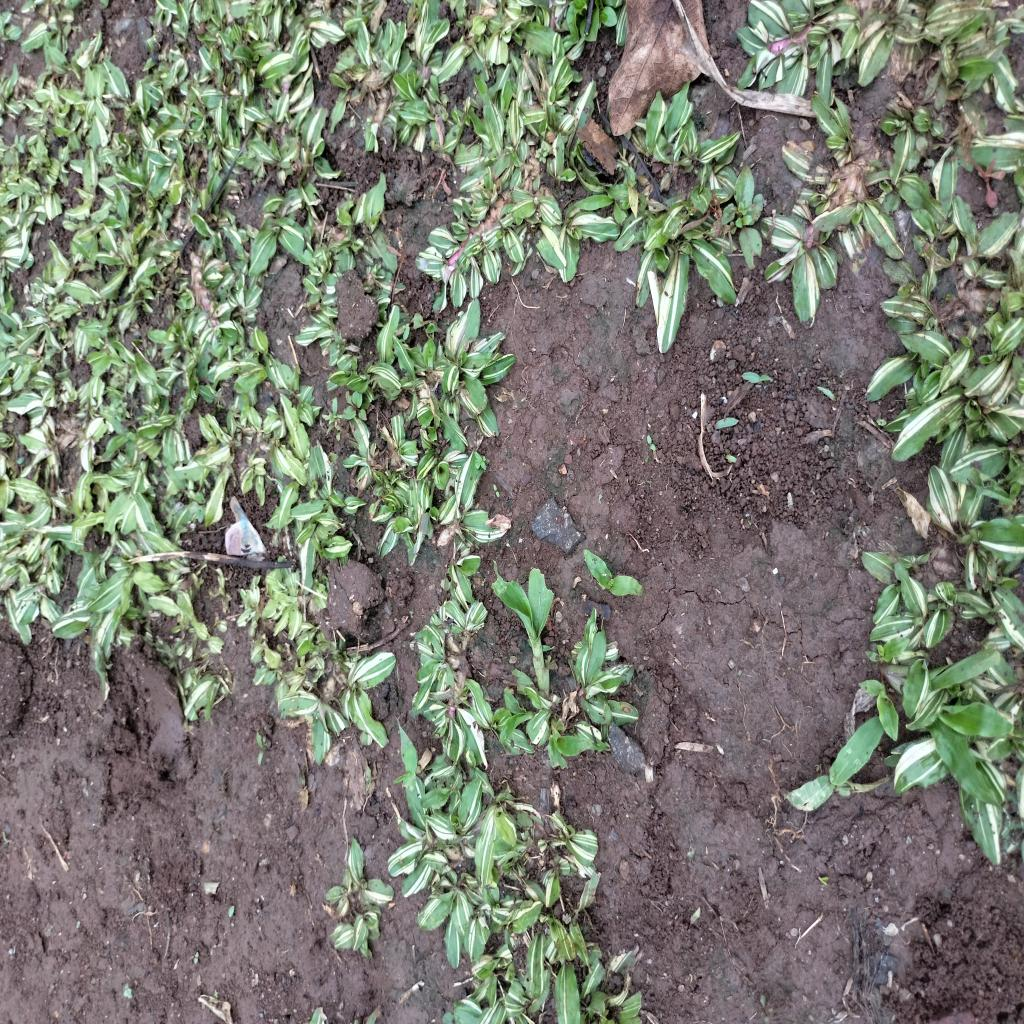akar wangi palsu: (322, 394, 344, 435)
bayi: (395, 324, 411, 345), (120, 982, 136, 1001), (646, 433, 657, 453), (876, 415, 888, 429), (192, 948, 201, 966), (492, 482, 500, 500), (212, 987, 221, 1001), (76, 918, 82, 930)
gingseng jawa: (946, 97, 1008, 212)
rambat atas: (778, 713, 882, 816), (396, 722, 423, 788)
rambat bawah: (880, 658, 1020, 816), (494, 569, 555, 698), (579, 544, 646, 602), (859, 674, 901, 746), (547, 712, 594, 773), (860, 630, 913, 670)
ungu tunggang: (719, 158, 766, 273), (342, 388, 370, 424)
